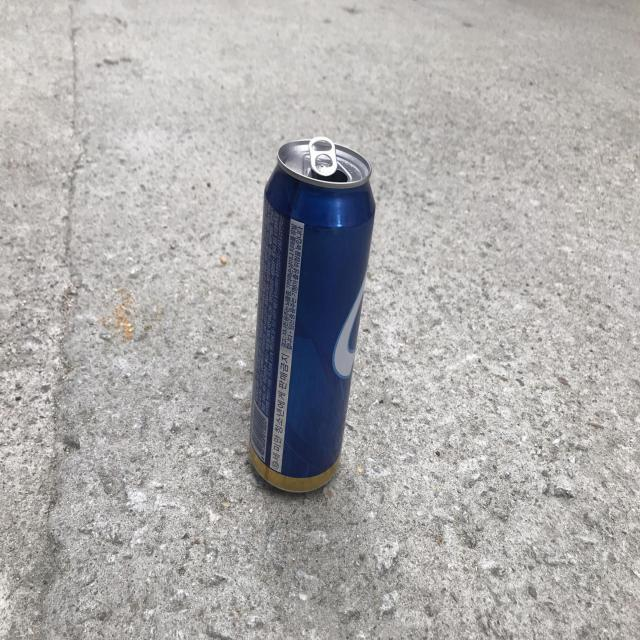can: (249, 135, 375, 493)
